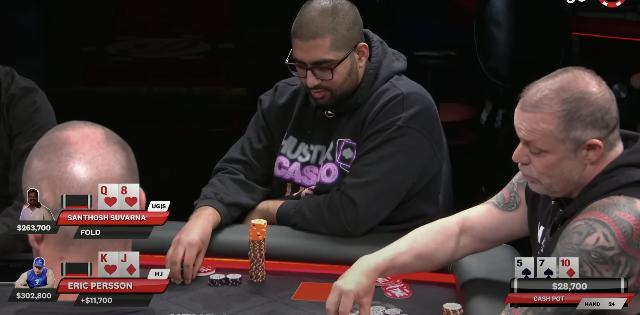10D: (560, 258, 578, 278)
5S: (516, 258, 532, 278)
7S: (538, 258, 556, 278)
8H: (120, 185, 138, 209)
JD: (120, 253, 138, 277)
KH: (100, 253, 118, 277)
QH: (99, 184, 118, 210)
